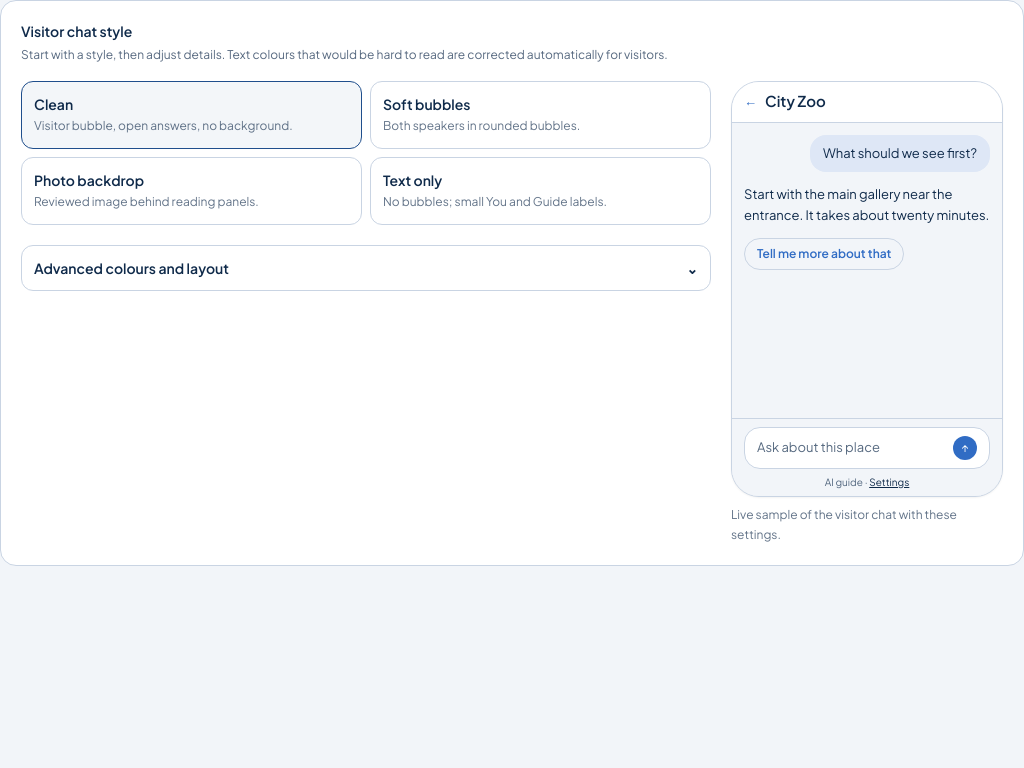
Test case: ChatAppearanceEditor › offers presets first and marks the plain default as Clean
Click the button "Text only No bubbles; small You and Guide labels.": (540, 191) [370,157,711,225]
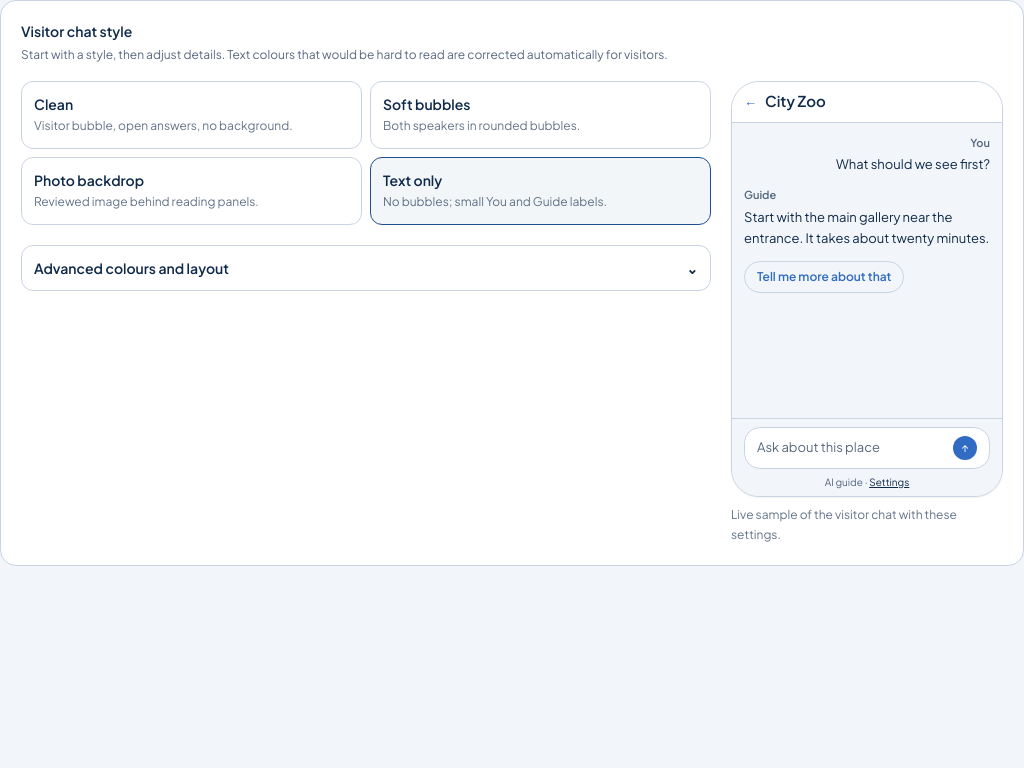
Check: the text "You" is shown, box [970,134,990,151]
Check: the text "Guide" is shown, box [744,188,776,200]
